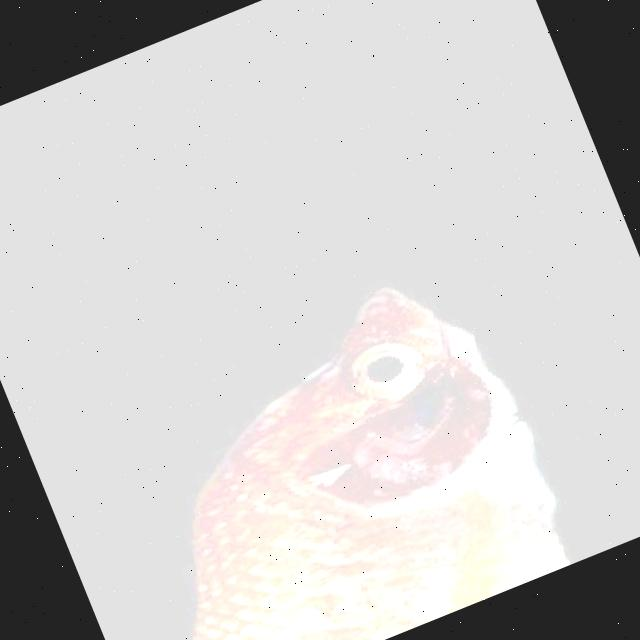Flavobacterium -Bacterial Gill Disease-: (192, 289, 568, 640)
